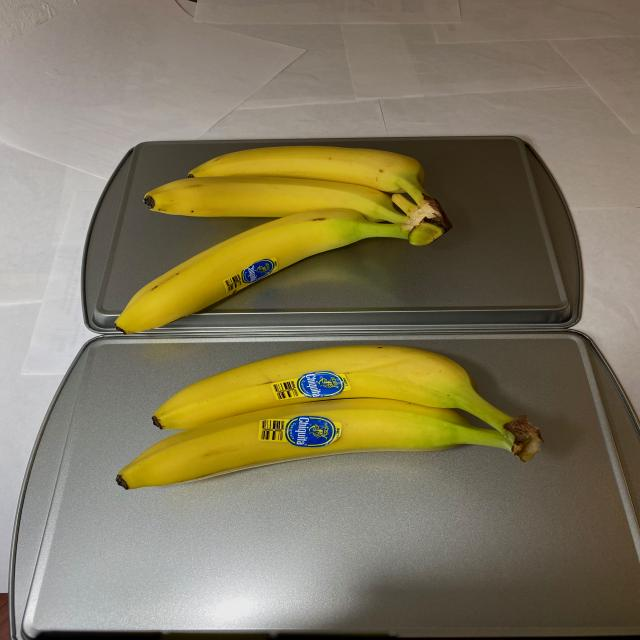banana: (114, 340, 546, 502), (103, 142, 455, 334)
